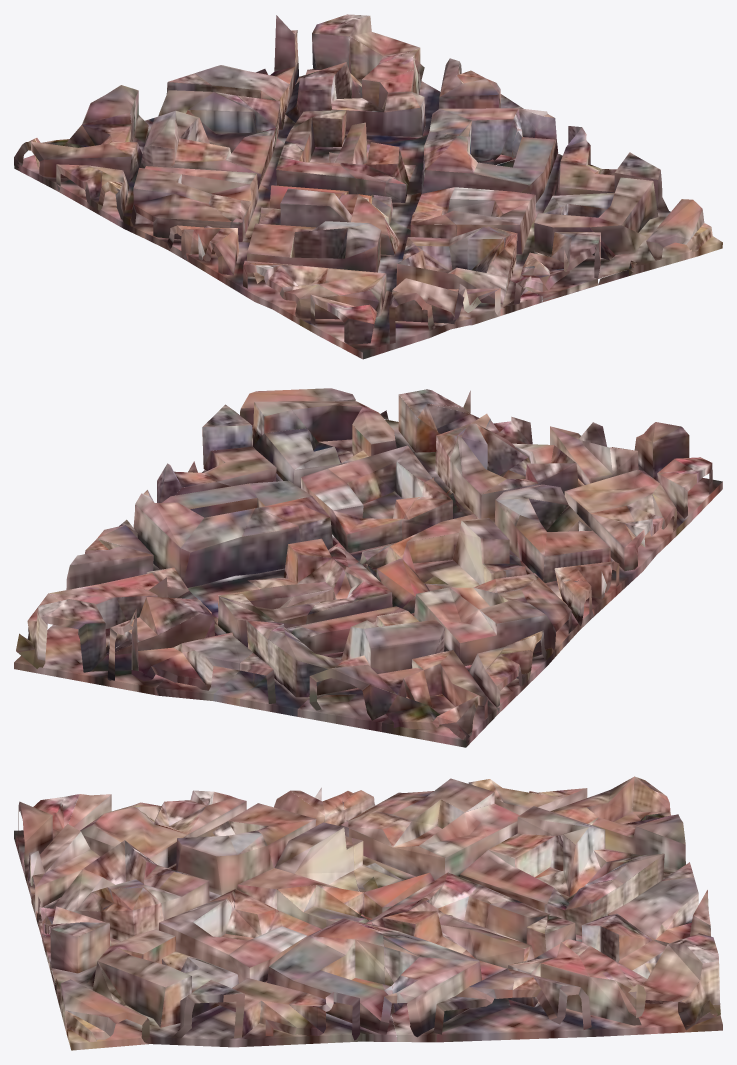
3 views of the same model, one above another, from view 1: azimuth 30°, elevation 25°; view 2: azimuth 150°, elevation 25°; view 3: azimuth 270°, elevation 25° (orthographic). The views are drawn at different scales.
Visible parts, largest first — view 1: Mesh_0; view 2: Mesh_0; view 3: Mesh_0.
Boxes of the visible parts, x1,y1,x2,y2 form: Mesh_0: [14, 14, 722, 359]; Mesh_0: [14, 388, 722, 747]; Mesh_0: [14, 776, 722, 1050].
Size of the model in its own units: 266 by 43.5 by 330.
2 materials, 2 textured.
